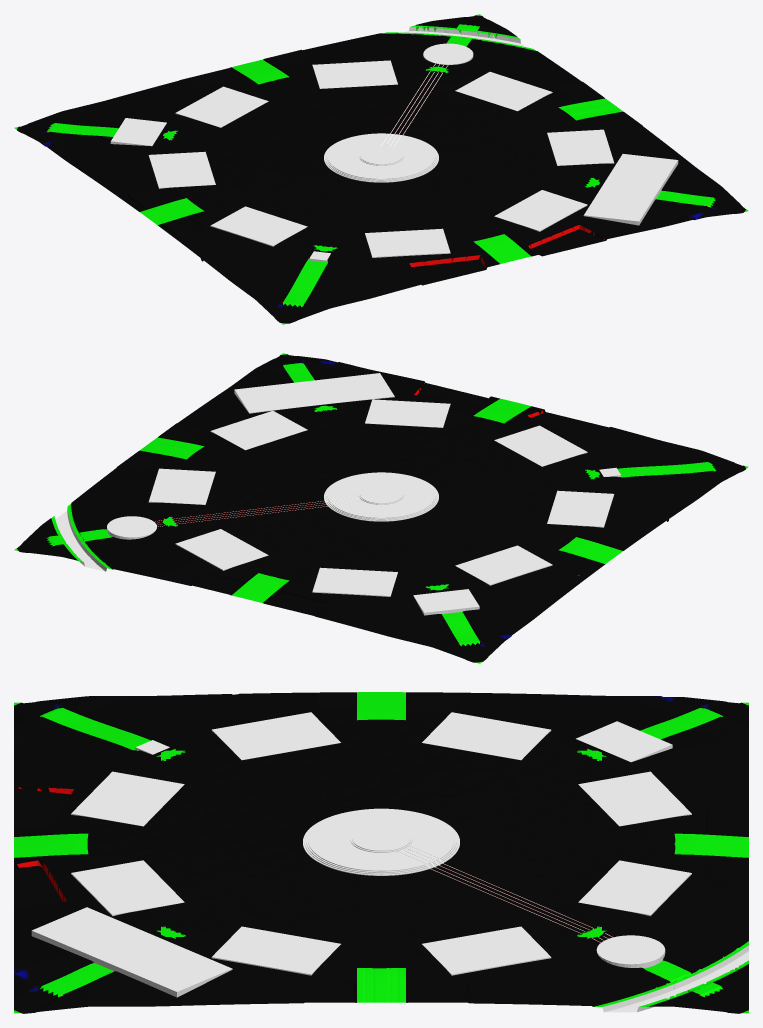
File: concordia_terrain_plaza.glb
3 renders of one model, top to bottom at view 1: azimuth 30°, elevation 25°; view 2: azimuth 150°, elevation 25°; view 3: azimuth 270°, elevation 25°, orthographic. The views are drawn at different scales.
Parts seen in each view (by area): view 1: TRN_City_Chunk_7_7_LOD0, TRN_City_Chunk_8_7_LOD0, TRN_City_Chunk_7_8_LOD0, TRN_City_Chunk_7_9_LOD0, TRN_City_Chunk_9_8_LOD0, TRN_City_Chunk_8_9_LOD0, TRN_City_Chunk_9_9_LOD0, TRN_City_Chunk_8_8_LOD0, TRN_City_Chunk_9_7_LOD0, TRN_Pad_SalonHazanas, TRN_Atrio, TRN_PlazaParcel_06 (+10 smaller); view 2: TRN_City_Chunk_7_9_LOD0, TRN_City_Chunk_9_9_LOD0, TRN_City_Chunk_7_7_LOD0, TRN_City_Chunk_8_9_LOD0, TRN_City_Chunk_7_8_LOD0, TRN_City_Chunk_9_8_LOD0, TRN_City_Chunk_8_7_LOD0, TRN_City_Chunk_8_8_LOD0, TRN_City_Chunk_9_7_LOD0, TRN_Atrio, TRN_Pad_SalonHazanas, TRN_PlazaParcel_03 (+10 smaller); view 3: TRN_City_Chunk_9_9_LOD0, TRN_City_Chunk_9_8_LOD0, TRN_City_Chunk_7_7_LOD0, TRN_City_Chunk_8_9_LOD0, TRN_City_Chunk_8_7_LOD0, TRN_City_Chunk_7_8_LOD0, TRN_City_Chunk_7_9_LOD0, TRN_City_Chunk_8_8_LOD0, TRN_City_Chunk_9_7_LOD0, TRN_Pad_SalonHazanas, TRN_Atrio, TRN_PlazaParcel_01 (+11 smaller).
Boxes of the visible parts, left/top/right/bottom form: TRN_City_Chunk_7_7_LOD0: left=193, top=210, right=437, bottom=324; TRN_City_Chunk_8_7_LOD0: left=349, top=172, right=593, bottom=281; TRN_City_Chunk_7_8_LOD0: left=104, top=145, right=348, bottom=252; TRN_City_Chunk_7_9_LOD0: left=14, top=83, right=258, bottom=186; TRN_City_Chunk_9_8_LOD0: left=415, top=73, right=658, bottom=172; TRN_City_Chunk_8_9_LOD0: left=169, top=45, right=413, bottom=144; TRN_City_Chunk_9_9_LOD0: left=325, top=14, right=568, bottom=106; TRN_City_Chunk_8_8_LOD0: left=259, top=107, right=503, bottom=210; TRN_City_Chunk_9_7_LOD0: left=504, top=138, right=748, bottom=243; TRN_Pad_SalonHazanas: left=583, top=154, right=678, bottom=225; TRN_Atrio: left=324, top=133, right=438, bottom=182; TRN_PlazaParcel_06: left=365, top=228, right=450, bottom=257; TRN_City_Chunk_7_9_LOD0: left=325, top=549, right=569, bottom=663; TRN_City_Chunk_9_9_LOD0: left=14, top=477, right=258, bottom=580; TRN_City_Chunk_7_7_LOD0: left=504, top=423, right=748, bottom=525; TRN_City_Chunk_8_9_LOD0: left=169, top=511, right=413, bottom=618; TRN_City_Chunk_7_8_LOD0: left=414, top=484, right=658, bottom=591; TRN_City_Chunk_9_8_LOD0: left=104, top=412, right=347, bottom=511; TRN_City_Chunk_8_7_LOD0: left=349, top=386, right=592, bottom=483; TRN_City_Chunk_8_8_LOD0: left=259, top=446, right=503, bottom=549; TRN_City_Chunk_9_7_LOD0: left=194, top=353, right=437, bottom=445; TRN_Atrio: left=324, top=472, right=438, bottom=521; TRN_Pad_SalonHazanas: left=234, top=373, right=394, bottom=413; TRN_PlazaParcel_03: left=312, top=567, right=397, bottom=596; TRN_City_Chunk_9_9_LOD0: left=504, top=895, right=748, bottom=1013; TRN_City_Chunk_9_8_LOD0: left=259, top=894, right=503, bottom=1003; TRN_City_Chunk_7_7_LOD0: left=14, top=693, right=258, bottom=798; TRN_City_Chunk_8_9_LOD0: left=504, top=791, right=748, bottom=900; TRN_City_Chunk_8_7_LOD0: left=14, top=791, right=258, bottom=902; TRN_City_Chunk_7_8_LOD0: left=259, top=692, right=503, bottom=791; TRN_City_Chunk_7_9_LOD0: left=504, top=693, right=748, bottom=796; TRN_City_Chunk_8_8_LOD0: left=259, top=791, right=503, bottom=894; TRN_City_Chunk_9_7_LOD0: left=14, top=895, right=258, bottom=1013; TRN_Pad_SalonHazanas: left=31, top=907, right=232, bottom=997; TRN_Atrio: left=303, top=808, right=459, bottom=875; TRN_PlazaParcel_01: left=422, top=926, right=551, bottom=975.
Size of what is drawn, in the model's own units: 150 by 4.55 by 150.
Materials: 9 (9 with a texture image).
